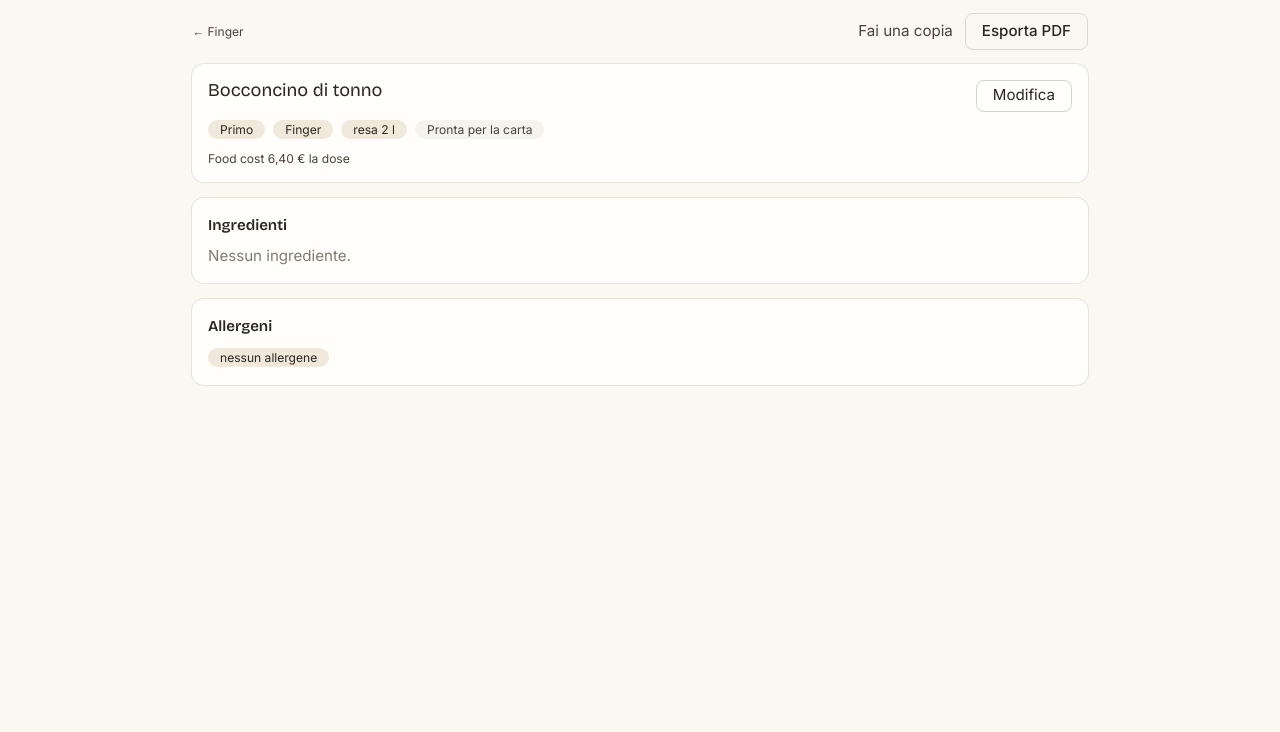
Test: 🔴 gli stati dicono che cosa è la scheda › un finger resta da piatto (decisione di Alessio, 12/09): quattro stati, «In carta» compreso
The image size is (1280, 732).
Click the button "Modifica" at (1024, 96), box x1=976 y1=80 x2=1072 y2=112
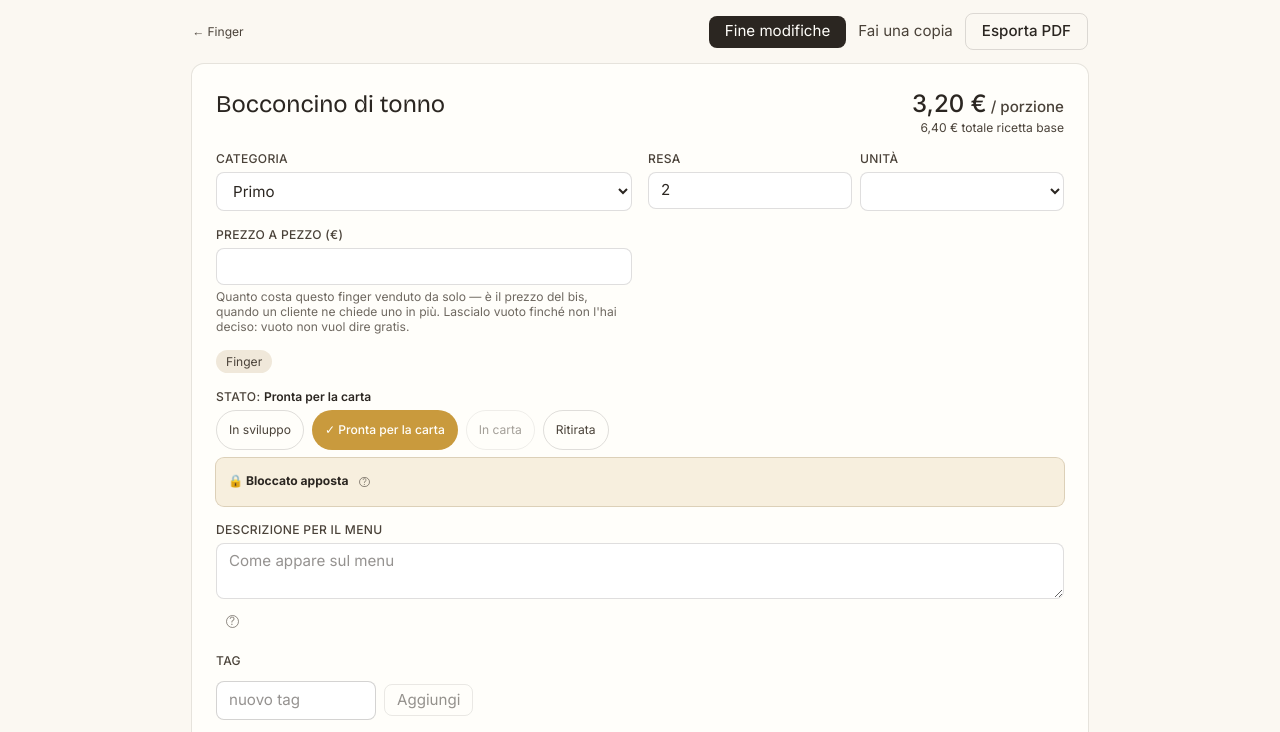
Check: the text "Stato: Pronta per la carta" is shown, box x1=216 y1=389 x2=371 y2=404
